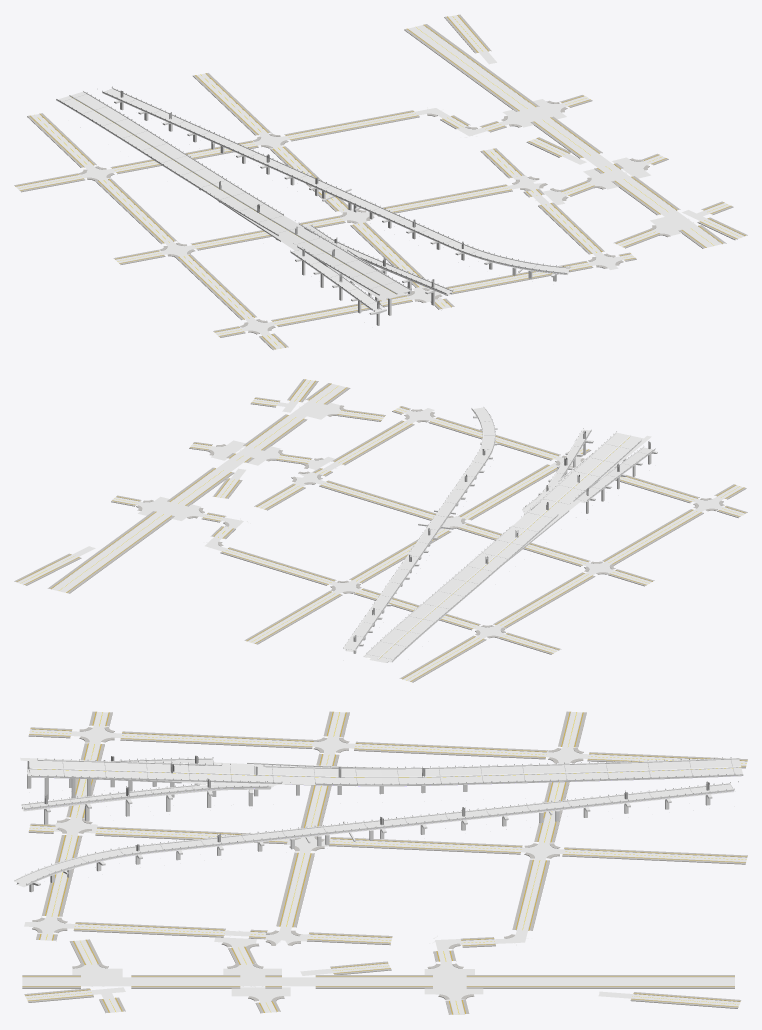
Rendered from roads_-3_0.gltf.
The picture shows the model from 3 angles, top to bottom: view 1: azimuth 30°, elevation 25°; view 2: azimuth 150°, elevation 25°; view 3: azimuth 270°, elevation 25°; orthographic projection. The views are drawn at different scales.
Visible parts, largest first — view 1: roads_-3_0_SH_wet_asphalt, roads_-3_0_SH_concrete_pier, roads_-3_0_SH_sidewalk, roads_-3_0_SH_concrete_barrier, roads_-3_0_Road_Tactile_Strip, roads_-3_0_SH_kerb, roads_-3_0_SH_road_marking_white, roads_-3_0_SH_road_marking_yellow; view 2: roads_-3_0_SH_wet_asphalt, roads_-3_0_SH_sidewalk, roads_-3_0_SH_concrete_pier, roads_-3_0_Road_Tactile_Strip, roads_-3_0_SH_kerb, roads_-3_0_SH_concrete_barrier, roads_-3_0_SH_road_marking_white, roads_-3_0_SH_road_marking_yellow; view 3: roads_-3_0_SH_wet_asphalt, roads_-3_0_SH_concrete_pier, roads_-3_0_SH_sidewalk, roads_-3_0_SH_concrete_barrier, roads_-3_0_Road_Tactile_Strip, roads_-3_0_SH_kerb, roads_-3_0_SH_road_marking_white, roads_-3_0_SH_road_marking_yellow, roads_-3_0_Road_Ivy.
Part boxes in pixels (<box>): roads_-3_0_SH_wet_asphalt: <box>16,15,744,349</box>; roads_-3_0_SH_concrete_pier: <box>56,88,569,325</box>; roads_-3_0_SH_sidewalk: <box>14,14,747,349</box>; roads_-3_0_SH_concrete_barrier: <box>56,88,569,310</box>; roads_-3_0_Road_Tactile_Strip: <box>15,15,745,349</box>; roads_-3_0_SH_kerb: <box>15,15,744,348</box>; roads_-3_0_SH_road_marking_white: <box>16,15,742,348</box>; roads_-3_0_SH_road_marking_yellow: <box>19,16,738,348</box>; roads_-3_0_SH_wet_asphalt: <box>17,379,745,681</box>; roads_-3_0_SH_sidewalk: <box>14,379,747,682</box>; roads_-3_0_SH_concrete_pier: <box>343,407,657,662</box>; roads_-3_0_Road_Tactile_Strip: <box>16,379,745,681</box>; roads_-3_0_SH_kerb: <box>17,379,745,681</box>; roads_-3_0_SH_concrete_barrier: <box>343,406,655,661</box>; roads_-3_0_SH_road_marking_white: <box>24,380,739,679</box>; roads_-3_0_SH_road_marking_yellow: <box>20,380,739,680</box>; roads_-3_0_SH_wet_asphalt: <box>15,712,747,1014</box>; roads_-3_0_SH_concrete_pier: <box>14,759,742,892</box>; roads_-3_0_SH_sidewalk: <box>22,711,747,1014</box>; roads_-3_0_SH_concrete_barrier: <box>14,758,743,885</box>; roads_-3_0_Road_Tactile_Strip: <box>22,711,747,1014</box>; roads_-3_0_SH_kerb: <box>22,712,747,1014</box>; roads_-3_0_SH_road_marking_white: <box>15,712,743,1014</box>; roads_-3_0_SH_road_marking_yellow: <box>27,712,746,1013</box>; roads_-3_0_Road_Ivy: <box>27,755,709,851</box>.
Size of what is drawn, in the model's own units: 514 by 26.99 by 525.
